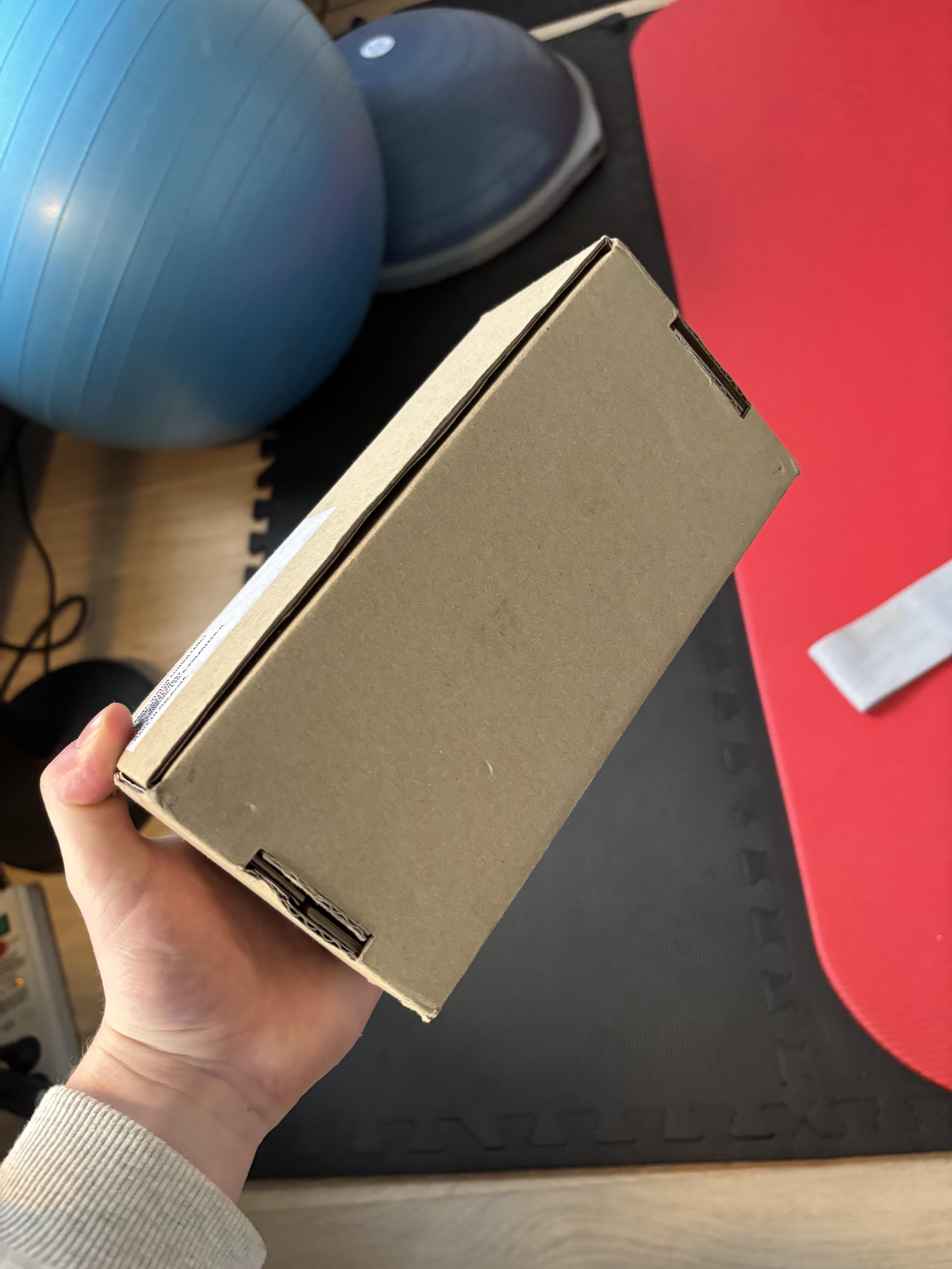Cardboard: (116, 233, 792, 1034)
